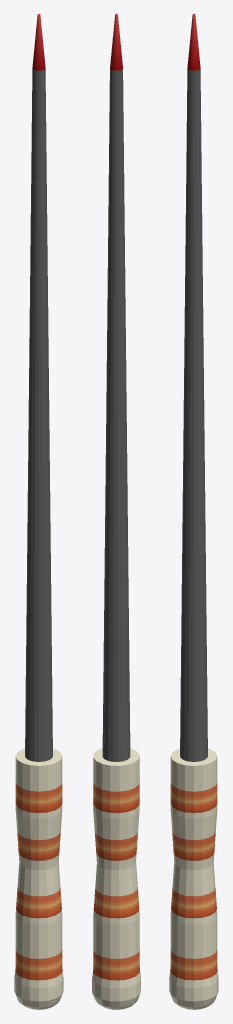
Rendered from mod_tool_picker.fbx.
The picture shows the model from 3 angles, left to right: view 1: azimuth 90°, elevation 25°; view 2: azimuth 210°, elevation 25°; view 3: azimuth 270°, elevation 25°; orthographic projection.
Parts seen in each view (by area): view 1: mesh_picker; view 2: mesh_picker; view 3: mesh_picker.
Boxes of the visible parts, <box> form: mesh_picker: <box>14,14,63,1009</box>; mesh_picker: <box>92,14,140,1009</box>; mesh_picker: <box>169,14,218,1009</box>.
Bounding box in the file's own units: 42.18 × 934 × 42.18.
